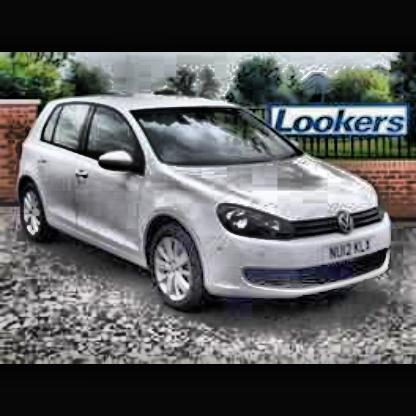Volkswagen Golf Hatchback 2012: (18, 96, 394, 311)
